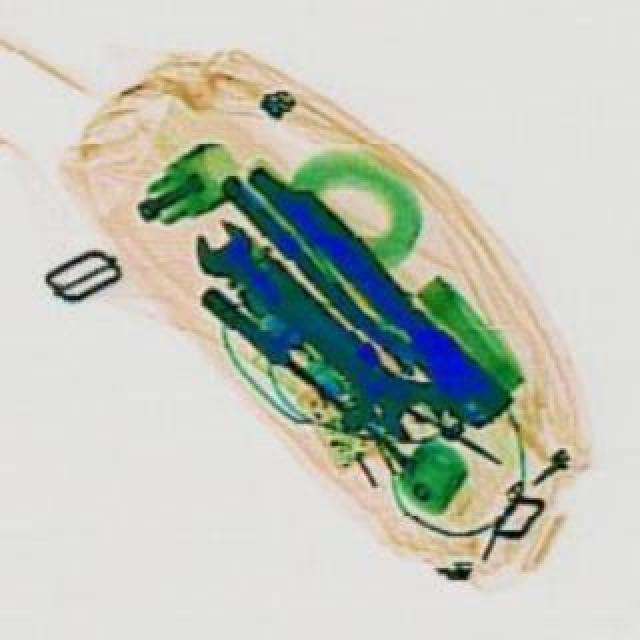scissors: (176, 214, 452, 454)
